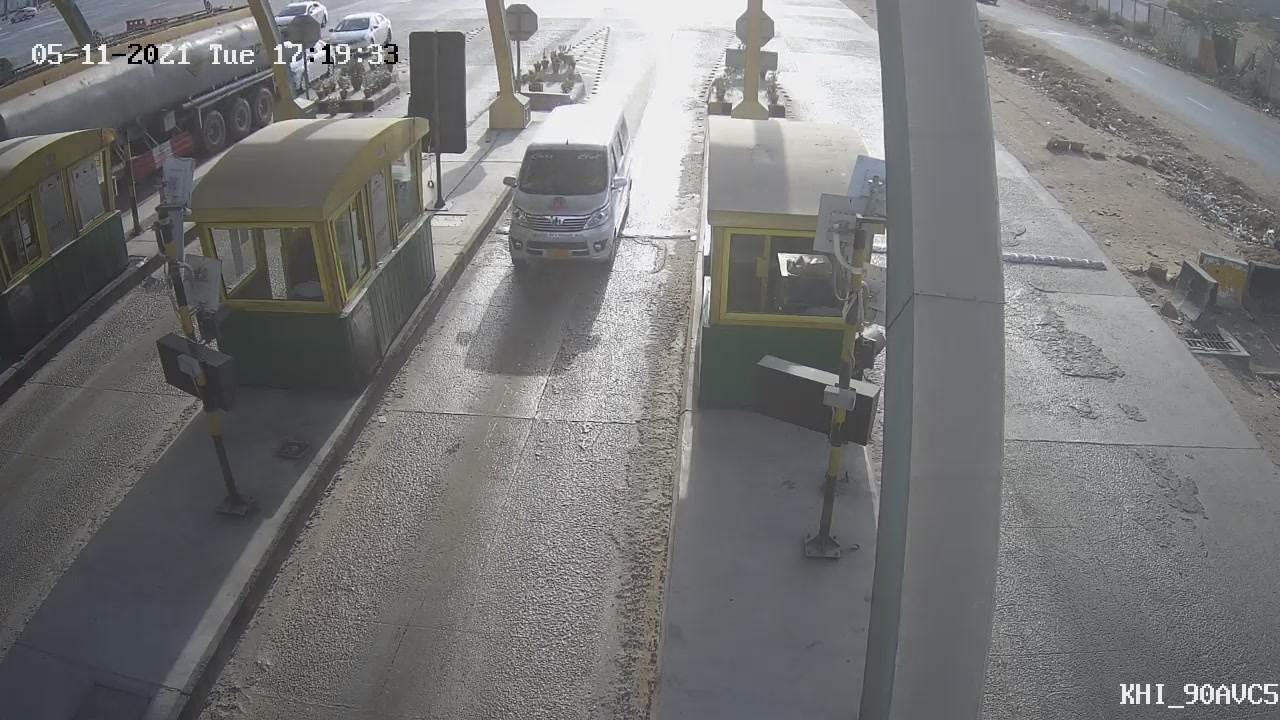F1: (481, 85, 659, 287)
